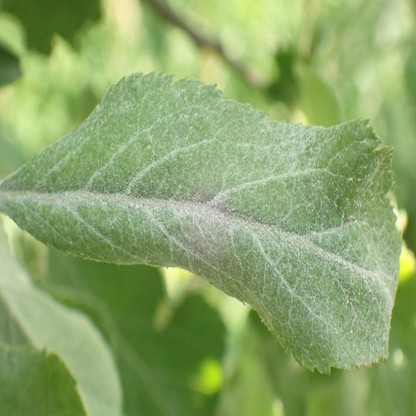powder: (1, 72, 401, 376)
